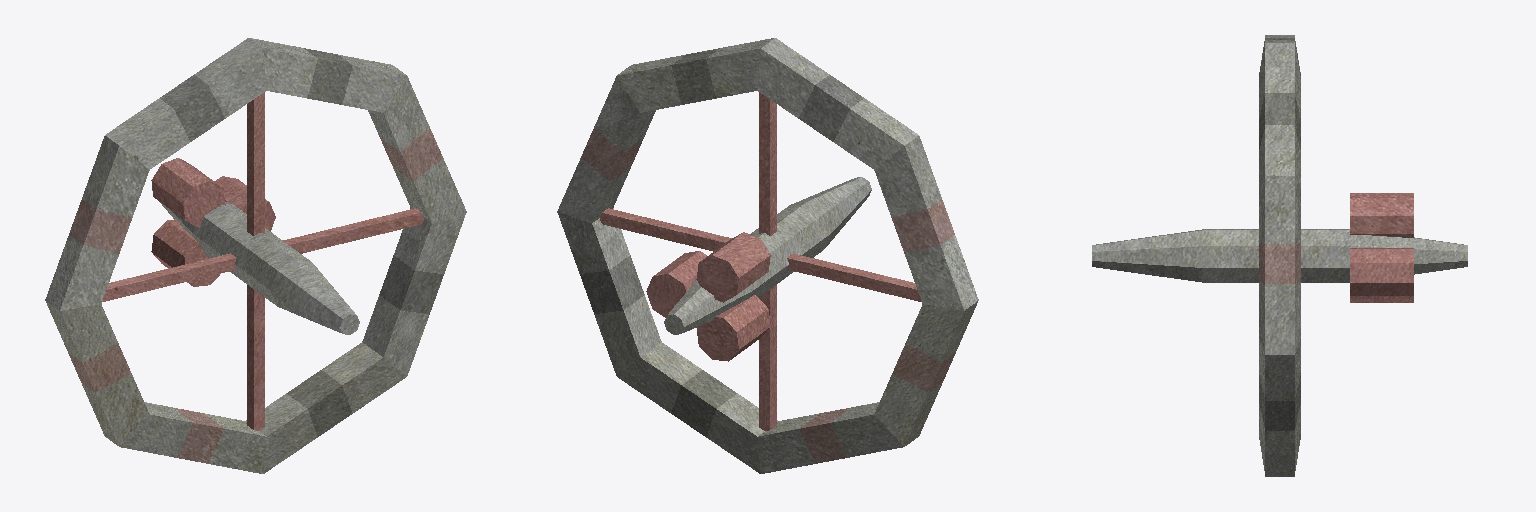
The picture shows the model from 3 angles: view 1: azimuth 30°, elevation 25°; view 2: azimuth 150°, elevation 25°; view 3: azimuth 270°, elevation 25°; orthographic projection.
Visible parts, largest first — view 1: Starbase2; view 2: Starbase2; view 3: Starbase2.
Boxes of the visible parts, box(x1,y1,x2,y2) form: Starbase2: box(45, 38, 466, 473); Starbase2: box(557, 38, 978, 473); Starbase2: box(1092, 35, 1467, 476).
Bounding box in the file's own units: 185 × 185 × 148.
Materials: 1 (1 with a texture image).